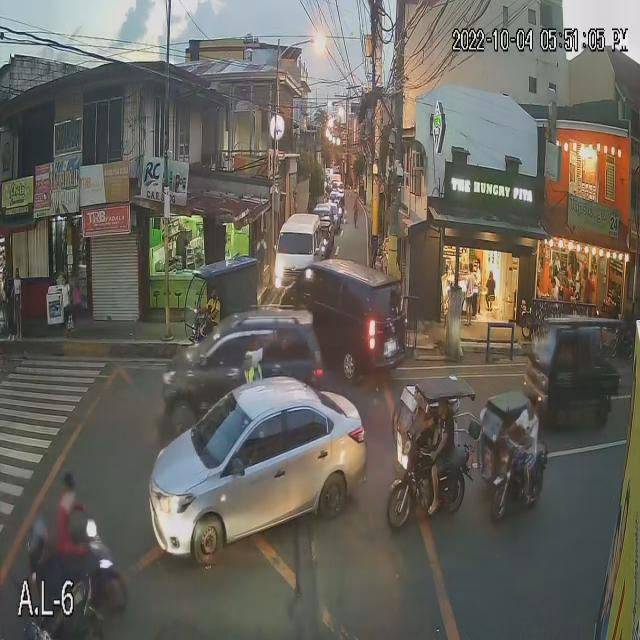helmet: (20, 524, 53, 556)
motorcycle: (34, 554, 132, 624), (10, 601, 88, 640)
rider: (31, 558, 61, 632), (58, 510, 86, 571)
